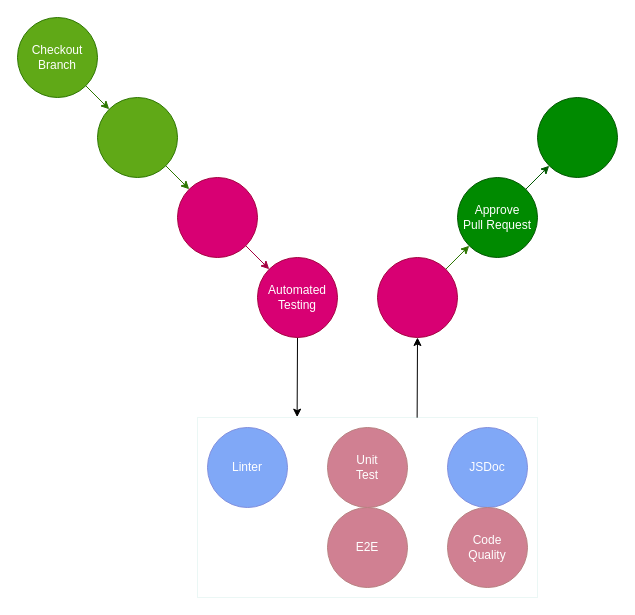
Image size: 635x615. Some labels were removed from this diagram. The centre of each missing label's shape, as x and y in pixels:
Commit Changes: the point at 137,137
Merge Branch to Main: the point at 577,137
Open Pull Request: the point at 217,217
Personal Review: the point at 417,297
